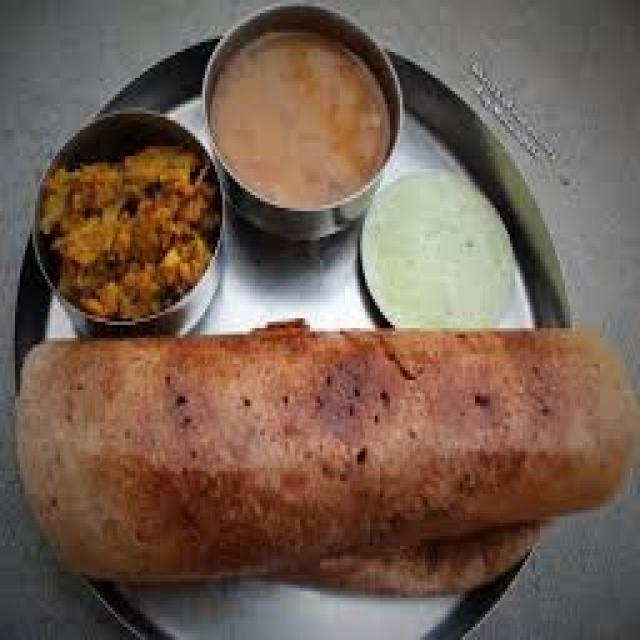DOSA: (17, 322, 637, 594)
